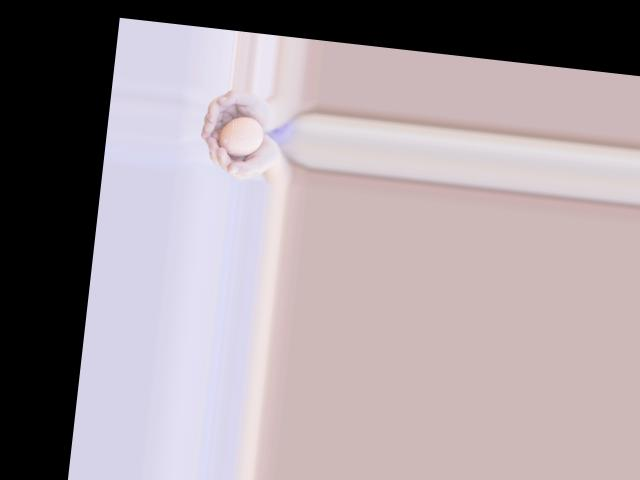egg: (217, 113, 265, 158)
